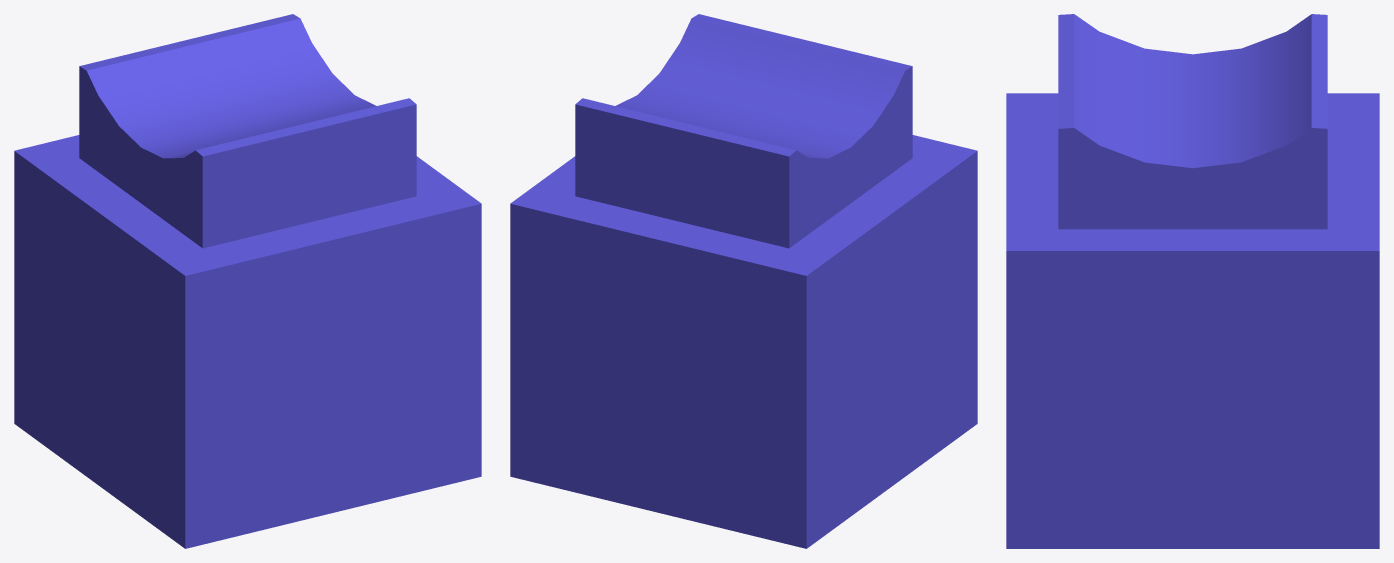
The model's file is Rack.fbx.
3 views of the same model, side by side, from view 1: azimuth 30°, elevation 25°; view 2: azimuth 150°, elevation 25°; view 3: azimuth 270°, elevation 25° (orthographic). The views are drawn at different scales.
Visible parts, largest first — view 1: Rack; view 2: Rack; view 3: Rack.
Boxes of the visible parts, x1,y1,x2,y2 form: Rack: [14, 14, 481, 548]; Rack: [510, 14, 977, 548]; Rack: [1006, 14, 1379, 548].
Bounding box in the file's own units: 47.22 × 55.68 × 47.22.
